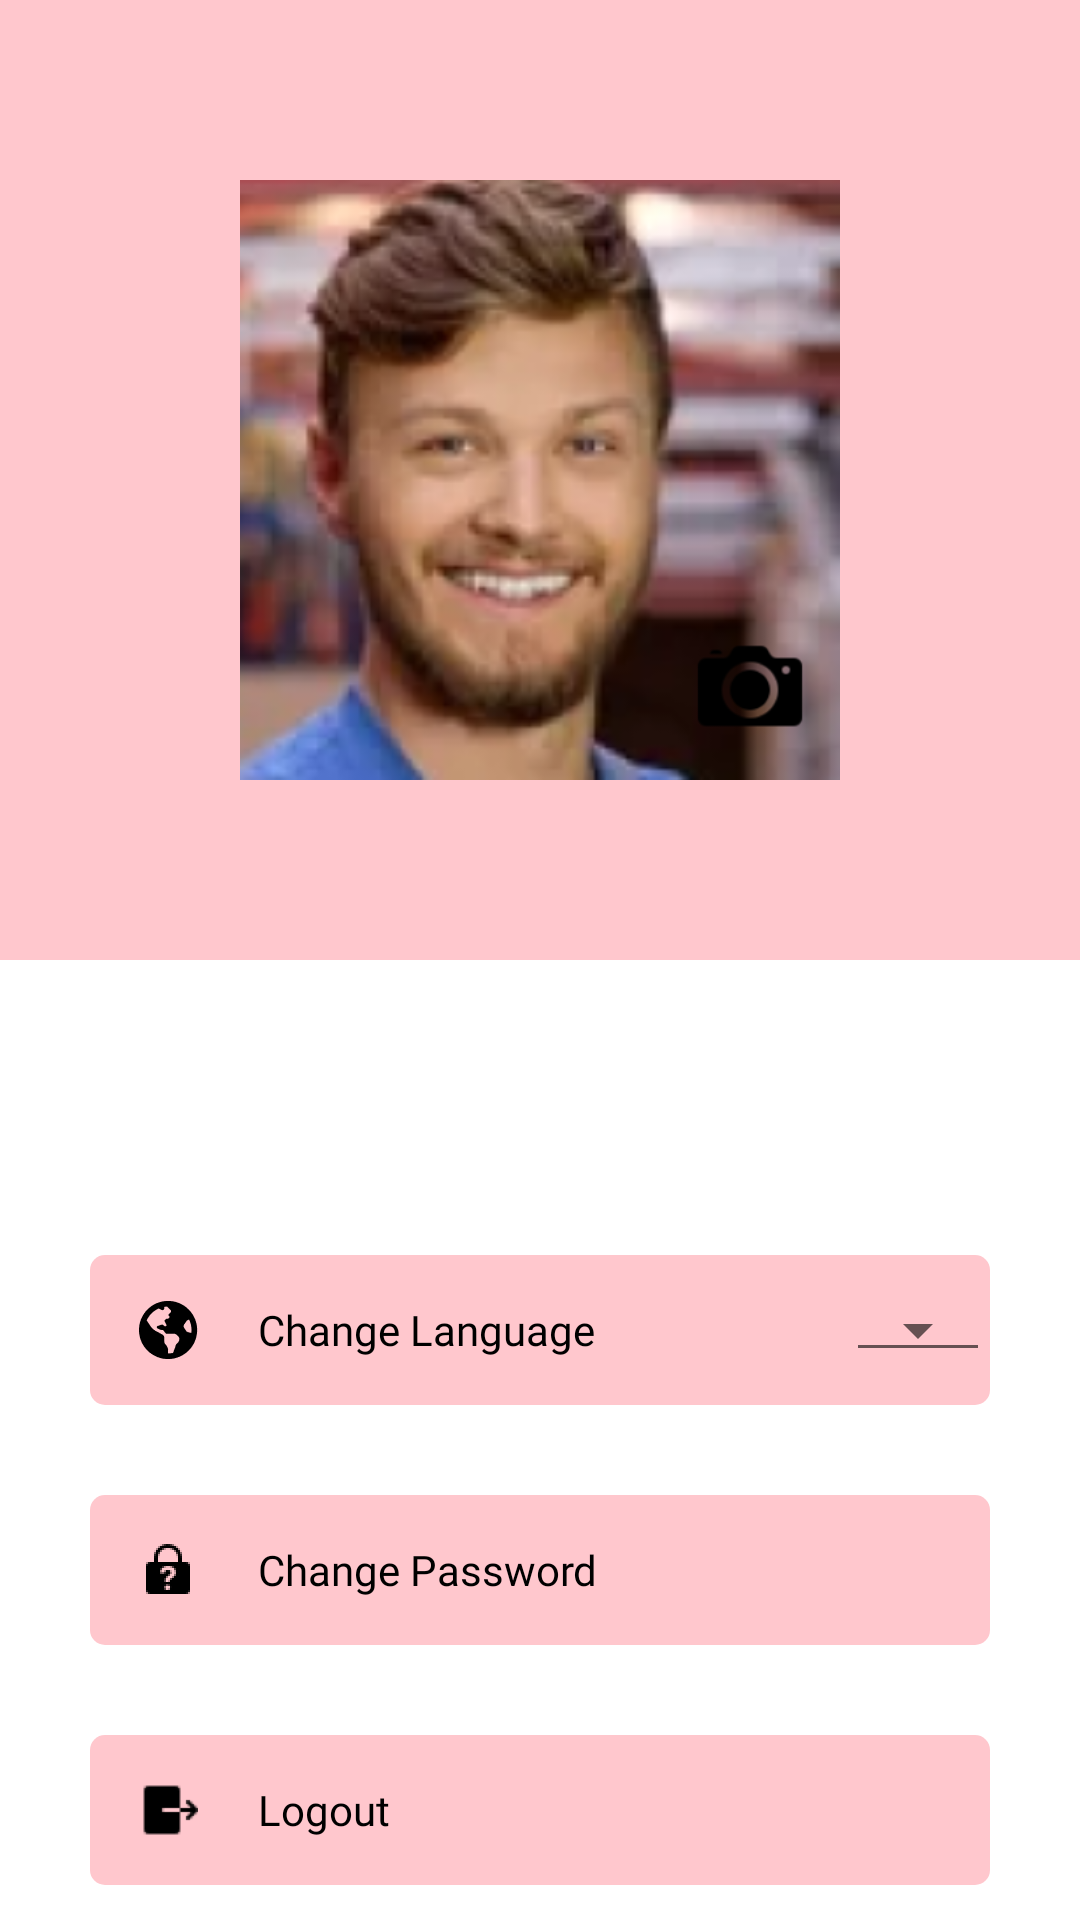

Where to tap for icons on this 1080×1920 app screen, as (x=x, y=y):
camera: (x=750, y=690)
